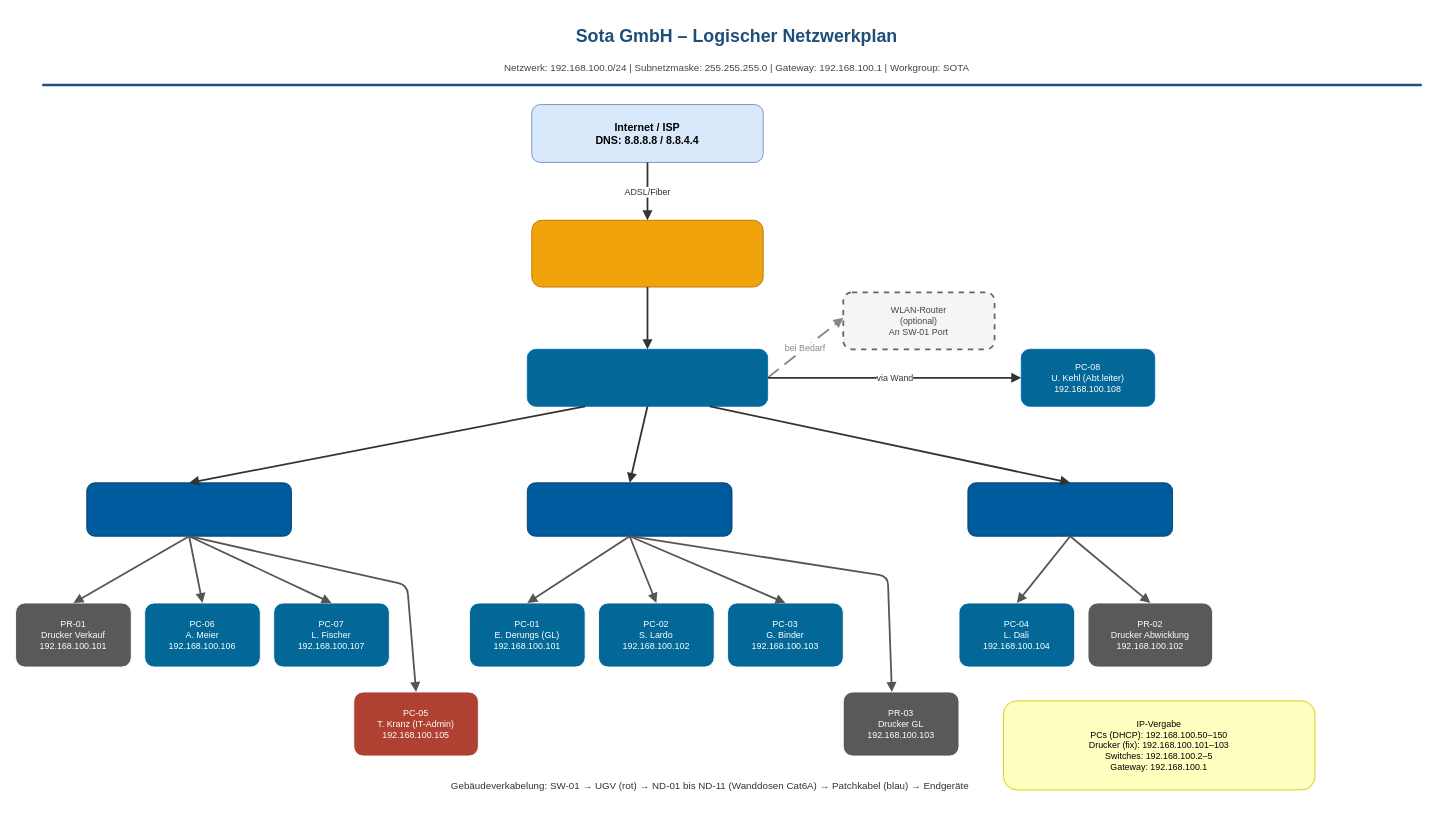
Some shapes in this 1439 by 813 pixel diagram are drawn without their labels. Each missing label, with the centre of its shape:
RT-01 Router / Firewall IP intern: 192.168.100.1 IP extern: DHCP (ISP): (x=647, y=253)
SW-01 Core Switch FastGb 192.168.100.2: (x=647, y=377)
SW-02 Access Verkauf/IT 192.168.100.3: (x=188, y=509)
SW-03 Access GL/Finanzen 192.168.100.4: (x=629, y=509)
SW-04 Access Abwicklung 192.168.100.5: (x=1070, y=509)
